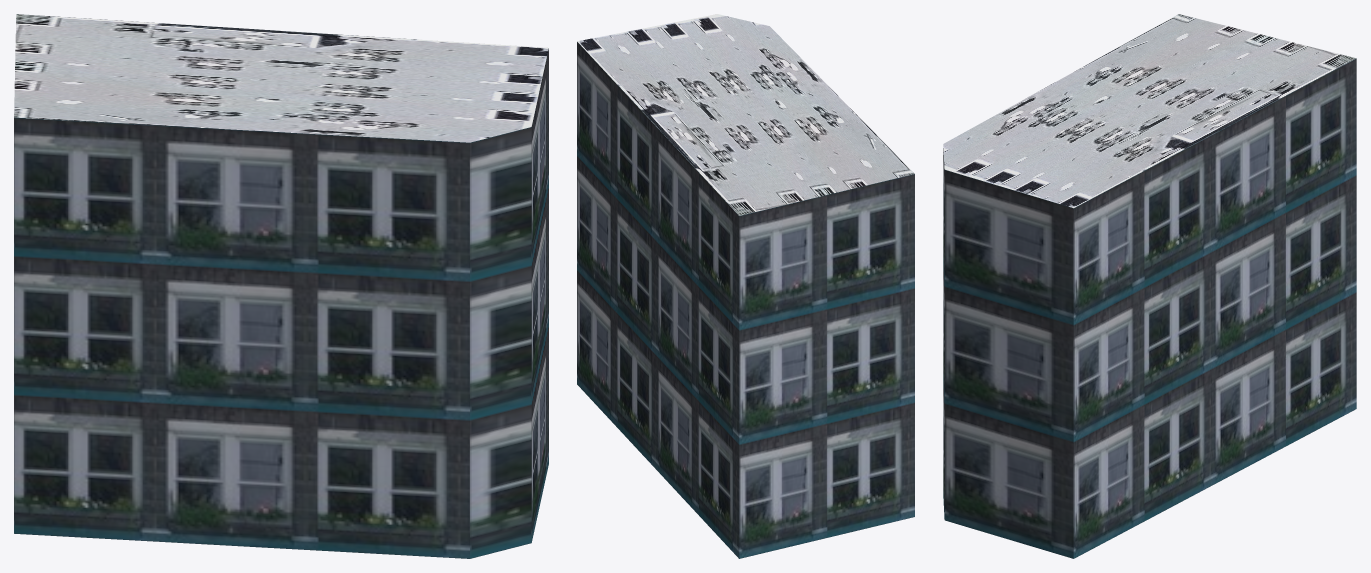
File: ResTex__3327.fbx
3 views of the same model, side by side, from view 1: azimuth 30°, elevation 25°; view 2: azimuth 150°, elevation 25°; view 3: azimuth 270°, elevation 25° (orthographic). The views are drawn at different scales.
Parts seen in each view (by area): view 1: CityEngineMaterial_11_m, CityEngineMaterial_4_m; view 2: CityEngineMaterial_11_m, CityEngineMaterial_4_m; view 3: CityEngineMaterial_11_m, CityEngineMaterial_4_m.
Part boxes in pixels (x1,y1,x2,y2): CityEngineMaterial_11_m: (14,48,548,558); CityEngineMaterial_4_m: (14,14,548,142); CityEngineMaterial_11_m: (577,42,914,558); CityEngineMaterial_4_m: (577,14,914,215); CityEngineMaterial_11_m: (943,58,1356,558); CityEngineMaterial_4_m: (943,14,1356,208).
Bounding box in the file's own units: 10.69 × 9 × 9.61.
2 materials, 2 textured.
